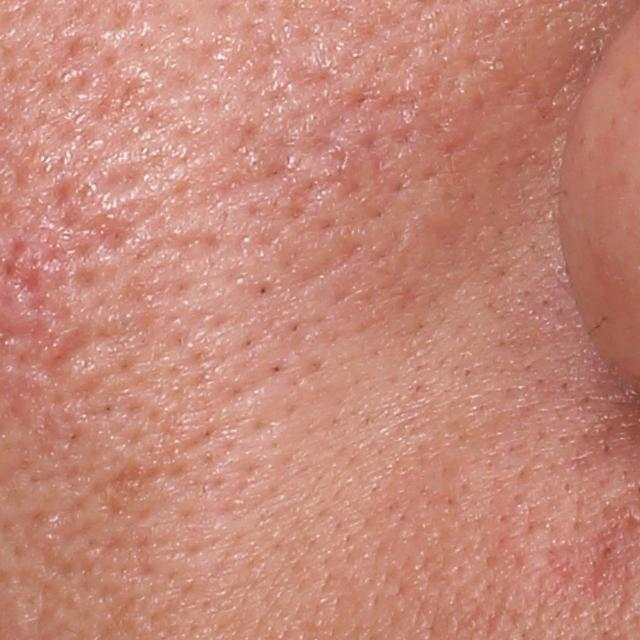atrophic_scar: (96, 459, 169, 527), (57, 202, 128, 255), (36, 323, 96, 371), (86, 160, 142, 196)
